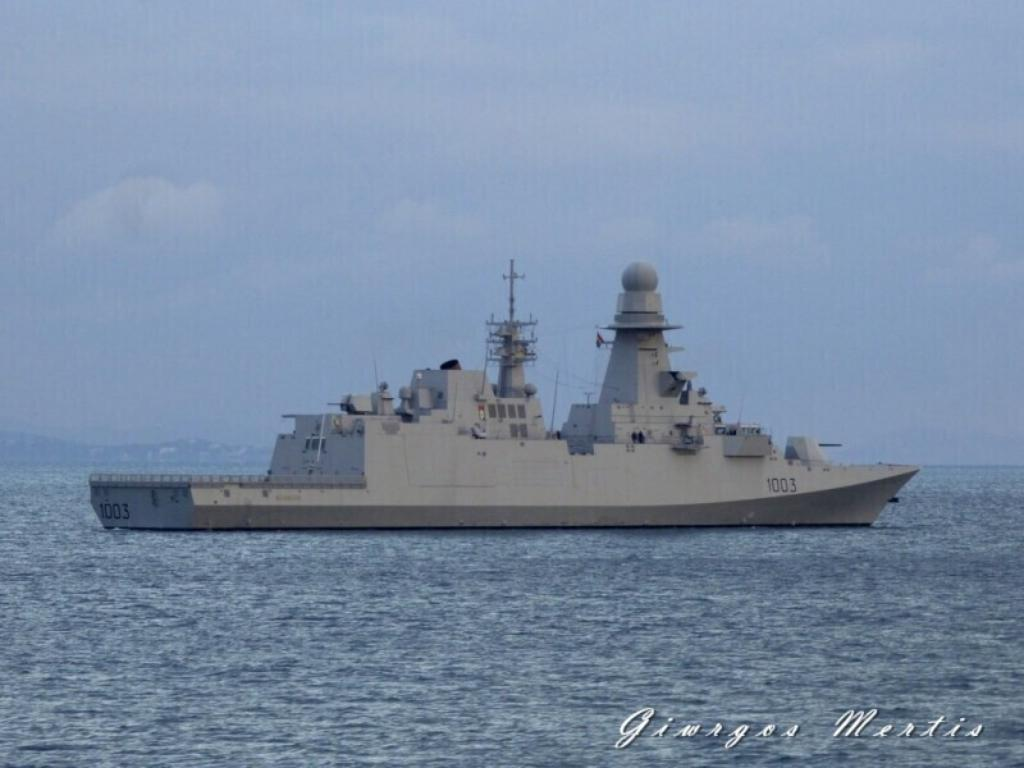Warship: (79, 248, 931, 536)
